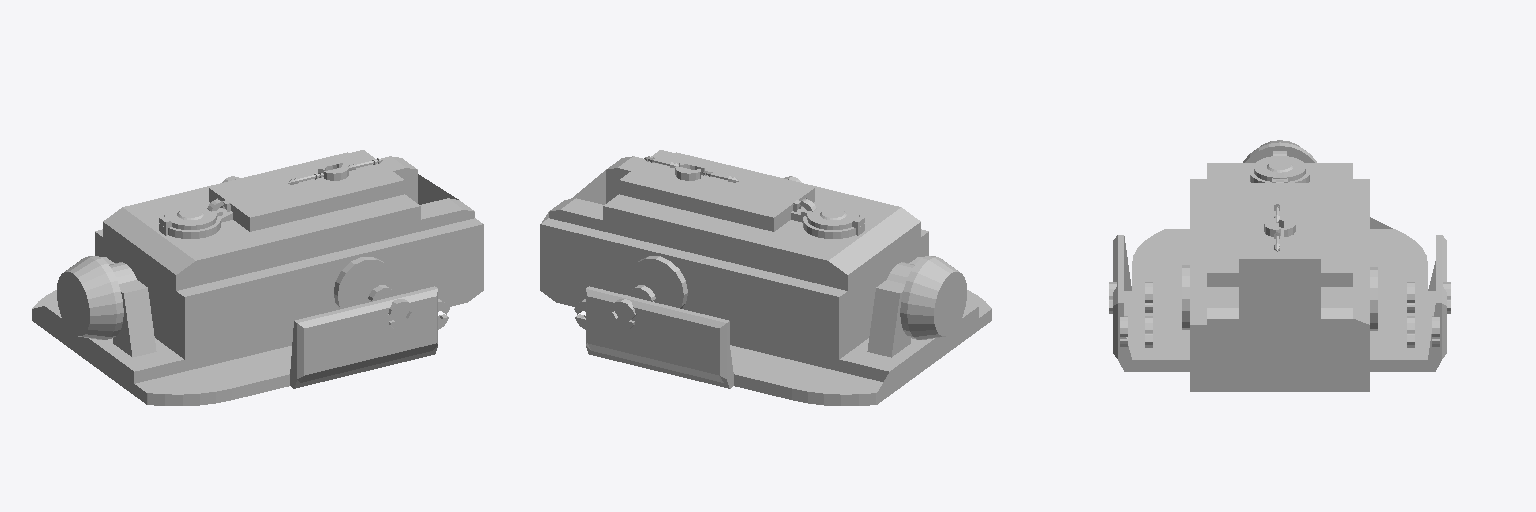
The model's file is tunguskaTurret.obj.
The picture shows the model from 3 angles: view 1: azimuth 30°, elevation 25°; view 2: azimuth 150°, elevation 25°; view 3: azimuth 270°, elevation 25°; orthographic projection.
Parts seen in each view (by area): view 1: Mesh13 Group7 Group1 Model, Mesh10 box2 Group1 Model, Mesh8 Group6 Group5 Group1 Model, Mesh9 box1 Group5 Group1 Model, Mesh37 Group18 Model; view 2: Mesh13 Group7 Group1 Model, Mesh11 box3 Group1 Model, Mesh8 Group6 Group5 Group1 Model, Mesh7 box Group5 Group1 Model, Mesh37 Group18 Model; view 3: Mesh13 Group7 Group1 Model, Mesh10 box2 Group1 Model, Mesh11 box3 Group1 Model, Mesh37 Group18 Model, Mesh8 Group6 Group5 Group1 Model.
Part boxes in pixels (bbox=[...]): Mesh13 Group7 Group1 Model: bbox=[32, 150, 483, 405]; Mesh10 box2 Group1 Model: bbox=[290, 286, 437, 388]; Mesh8 Group6 Group5 Group1 Model: bbox=[57, 256, 136, 339]; Mesh9 box1 Group5 Group1 Model: bbox=[113, 280, 156, 357]; Mesh37 Group18 Model: bbox=[164, 204, 222, 229]; Mesh13 Group7 Group1 Model: bbox=[540, 150, 991, 405]; Mesh11 box3 Group1 Model: bbox=[586, 286, 733, 388]; Mesh8 Group6 Group5 Group1 Model: bbox=[887, 256, 966, 339]; Mesh7 box Group5 Group1 Model: bbox=[867, 280, 910, 357]; Mesh37 Group18 Model: bbox=[801, 204, 859, 229]; Mesh13 Group7 Group1 Model: bbox=[1132, 163, 1427, 391]; Mesh10 box2 Group1 Model: bbox=[1113, 235, 1131, 371]; Mesh11 box3 Group1 Model: bbox=[1428, 235, 1446, 371]; Mesh37 Group18 Model: bbox=[1254, 156, 1305, 182]; Mesh8 Group6 Group5 Group1 Model: bbox=[1243, 140, 1316, 162].
Size of the model in its own units: 2793 by 1022 by 2269.